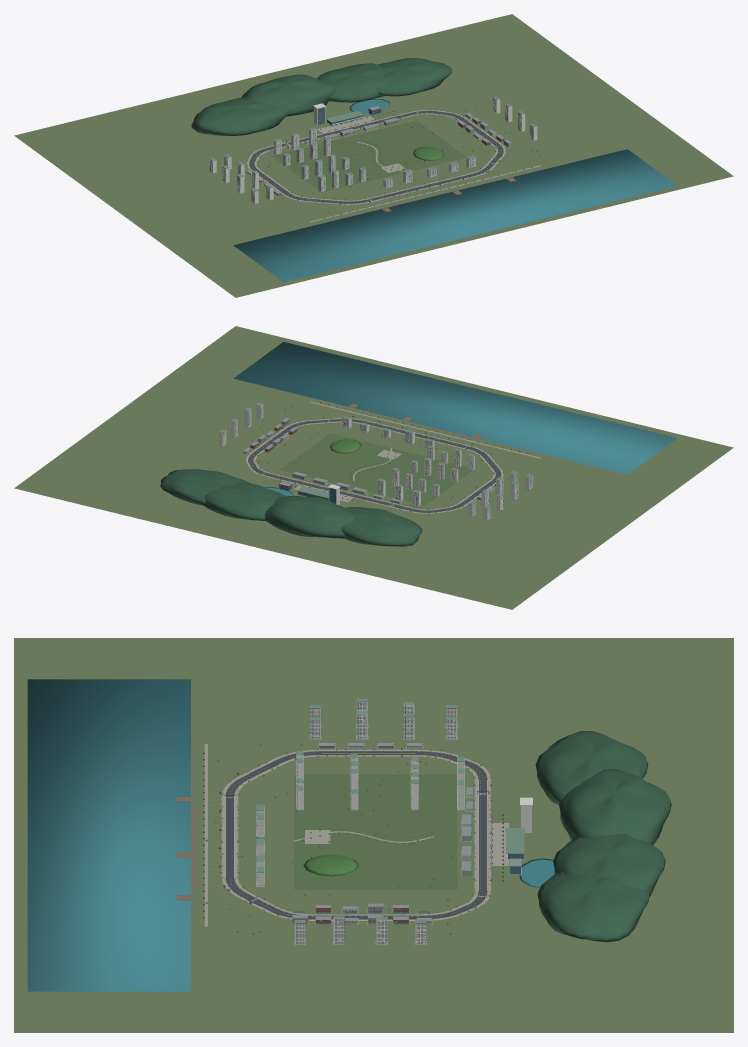
File: namak.glb
3 renders of one model, top to bottom at view 1: azimuth 30°, elevation 25°; view 2: azimuth 150°, elevation 25°; view 3: azimuth 270°, elevation 25°, orthographic. The views are drawn at different scales.
Parts seen in each view (by area): view 1: Terrain_Base, RiverWater, CentralParkLawn, Oryongsan_Hills, Oryongsan_Hills.001, Pine_Canopy.022, Oryongsan_Hills.002; view 2: Terrain_Base, RiverWater, CentralParkLawn, Oryongsan_Hills.001, Oryongsan_Hills, Oryongsan_Hills.002, Pine_Canopy.022; view 3: Terrain_Base, RiverWater, CentralParkLawn, Oryongsan_Hills.001, Pine_Canopy.022, Oryongsan_Hills, Oryongsan_Hills.002, Daejukdo_Green, NamakReservoir, RiverPromenade, OfficePlaza.
Boxes of the visible parts, bbox=[...] form: Terrain_Base: bbox=[14, 14, 733, 297]; RiverWater: bbox=[233, 149, 677, 281]; CentralParkLawn: bbox=[272, 120, 466, 192]; Oryongsan_Hills: bbox=[191, 97, 289, 135]; Oryongsan_Hills.001: bbox=[241, 74, 335, 116]; Pine_Canopy.022: bbox=[377, 58, 452, 96]; Oryongsan_Hills.002: bbox=[317, 63, 386, 102]; Terrain_Base: bbox=[14, 326, 733, 609]; RiverWater: bbox=[233, 342, 677, 474]; CentralParkLawn: bbox=[280, 433, 472, 505]; Oryongsan_Hills.001: bbox=[265, 496, 355, 538]; Oryongsan_Hills: bbox=[341, 507, 422, 546]; Oryongsan_Hills.002: bbox=[200, 483, 285, 520]; Pine_Canopy.022: bbox=[160, 469, 250, 504]; Terrain_Base: bbox=[14, 638, 733, 1032]; RiverWater: bbox=[27, 679, 190, 991]; CentralParkLawn: bbox=[294, 774, 457, 889]; Oryongsan_Hills.001: bbox=[559, 769, 671, 845]; Pine_Canopy.022: bbox=[537, 870, 650, 942]; Oryongsan_Hills: bbox=[535, 731, 648, 804]; Oryongsan_Hills.002: bbox=[553, 834, 665, 896]; Daejukdo_Green: bbox=[292, 854, 358, 876]; NamakReservoir: bbox=[519, 858, 554, 887]; RiverPromenade: bbox=[204, 744, 207, 926]; OfficePlaza: bbox=[491, 823, 509, 865].
Size of the model in its own units: 2400 by 125 by 1850.
